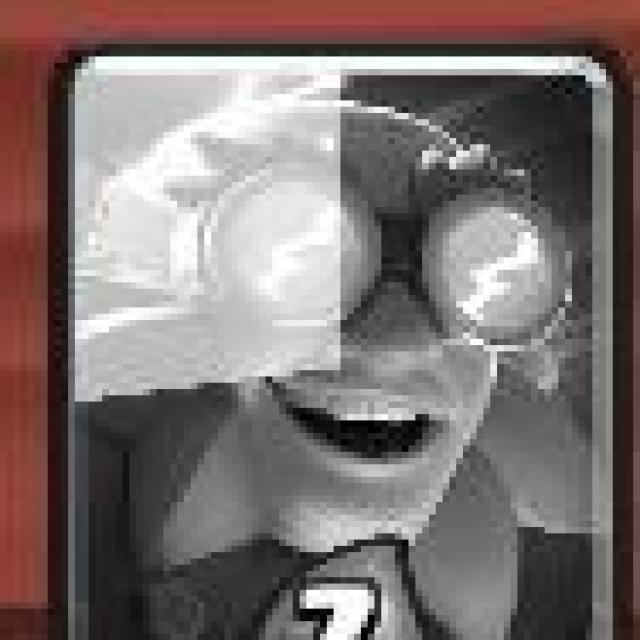Electro_Giant: (48, 41, 634, 640)
